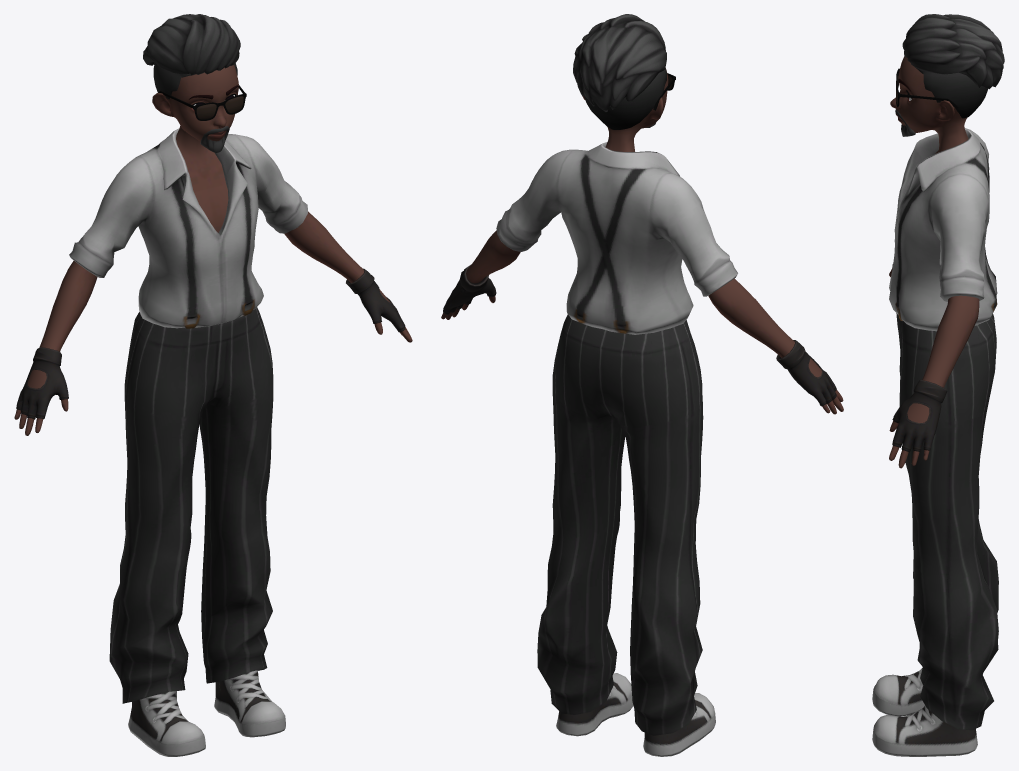
File: StaffElegantMan_Mesh.obj
3 renders of one model, left to right at view 1: azimuth 30°, elevation 25°; view 2: azimuth 150°, elevation 25°; view 3: azimuth 270°, elevation 25°, orthographic.
Parts seen in each view (by area): view 1: StaffElegantMan_Mesh_0; view 2: StaffElegantMan_Mesh_0; view 3: StaffElegantMan_Mesh_0.
Boxes of the visible parts, x1,y1,x2,y2 form: StaffElegantMan_Mesh_0: (14,14,412,756); StaffElegantMan_Mesh_0: (441,14,843,756); StaffElegantMan_Mesh_0: (872,14,1004,756).
Size of the model in its own units: 1.06 by 1.84 by 0.3103.
Materials: 1 (1 with a texture image).
